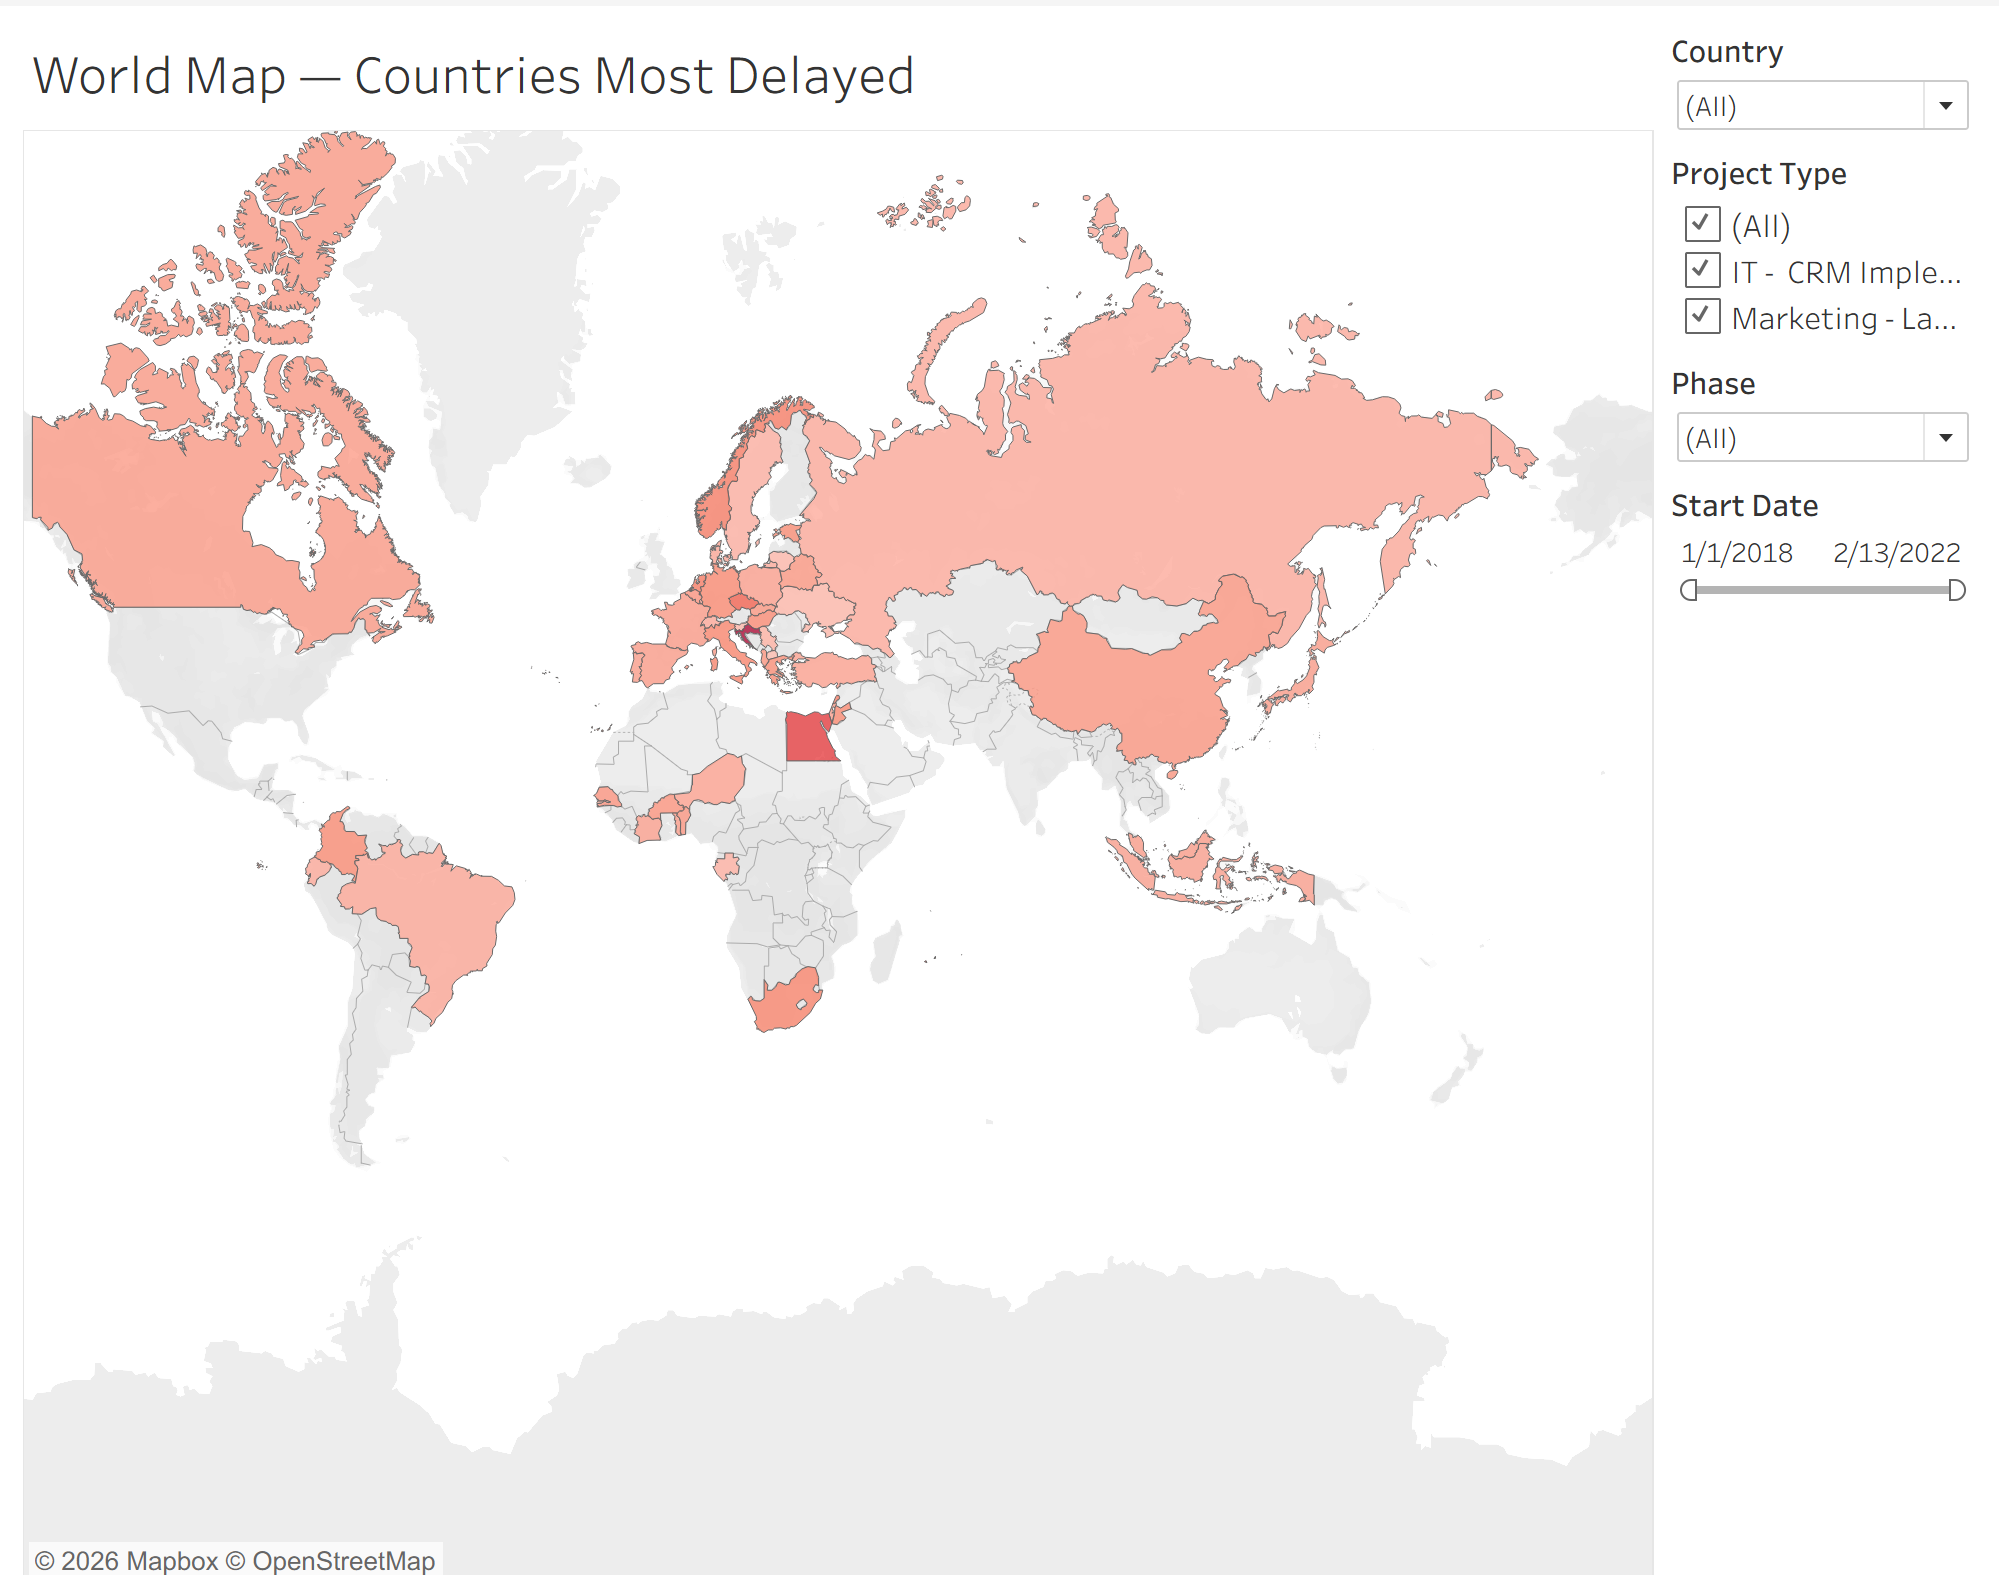

What the dashboard file says about the page in this screenshot:
{"tool":"tableau","page":{"name":"Regional Performance Monitoring","canvas":[1000,800],"ordinal":4},"visuals":[{"type":"worksheet","title":"World Map — Countries Most Delayed","mark":"Automatic","box":[8,8,824,784]},{"type":"filter","title":"World Map — Countries Most Delayed","param":"[federated.1jhwhhq11yij8e1dcoscd0796l0g].[none:Country:nk]","box":[832,8,160,61]},{"type":"filter","title":"World Map — Countries Most Delayed","param":"[federated.1jhwhhq11yij8e1dcoscd0796l0g].[none:Project Type:nk]","box":[832,69,160,105]},{"type":"filter","title":"World Map — Countries Most Delayed","param":"[federated.1jhwhhq11yij8e1dcoscd0796l0g].[none:Phase:nk]","box":[832,174,160,61]},{"type":"filter","title":"World Map — Countries Most Delayed","param":"[federated.1jhwhhq11yij8e1dcoscd0796l0g].[none:Start Date:qk]","box":[832,235,160,73]}]}

Visuals, with their boxes in screenshot pixels (x1, y1, x2, y2), scaled from the page's 1000x800 canvas onto the 1999x1575 screenshot:
"World Map — Countries Most Delayed" worksheet: crop(16, 16, 1663, 1559)
"World Map — Countries Most Delayed" filter: crop(1663, 16, 1983, 136)
"World Map — Countries Most Delayed" filter: crop(1663, 136, 1983, 343)
"World Map — Countries Most Delayed" filter: crop(1663, 343, 1983, 463)
"World Map — Countries Most Delayed" filter: crop(1663, 463, 1983, 606)
